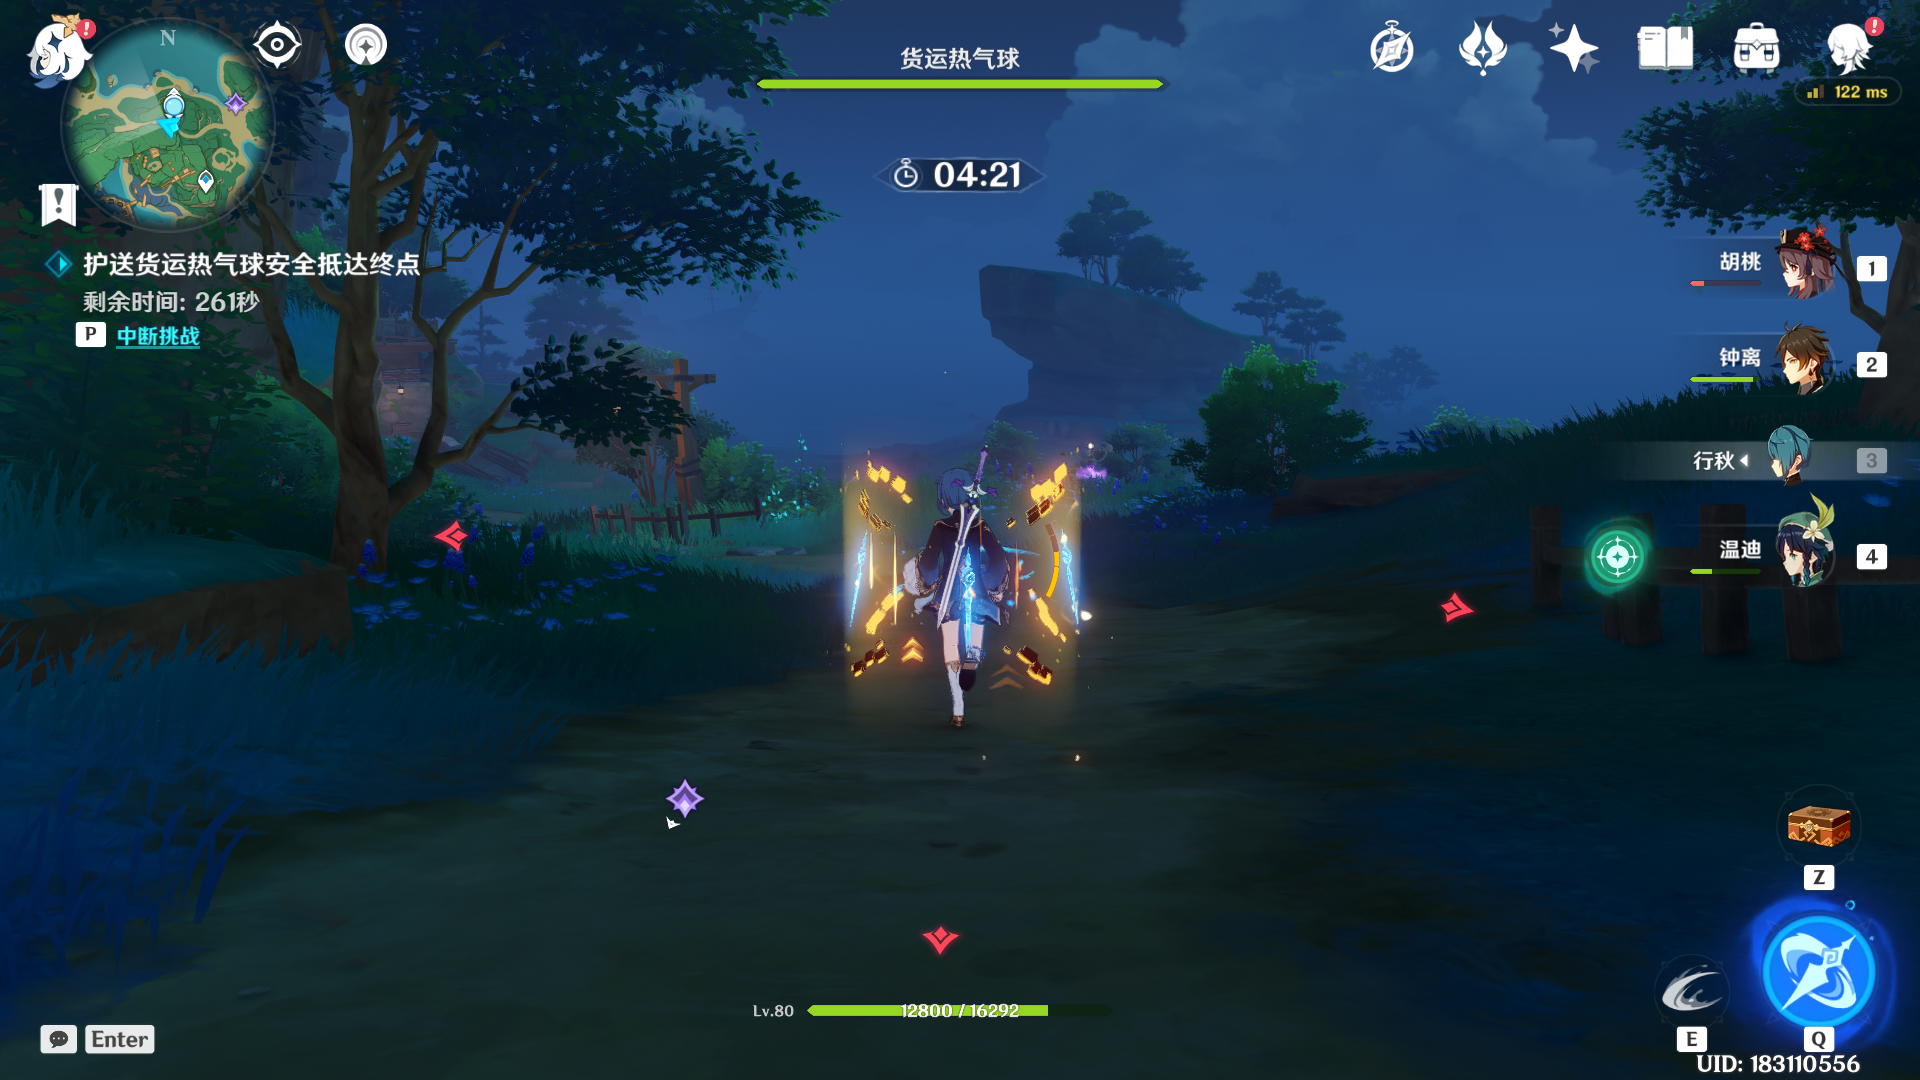character: (857, 440, 1077, 731)
